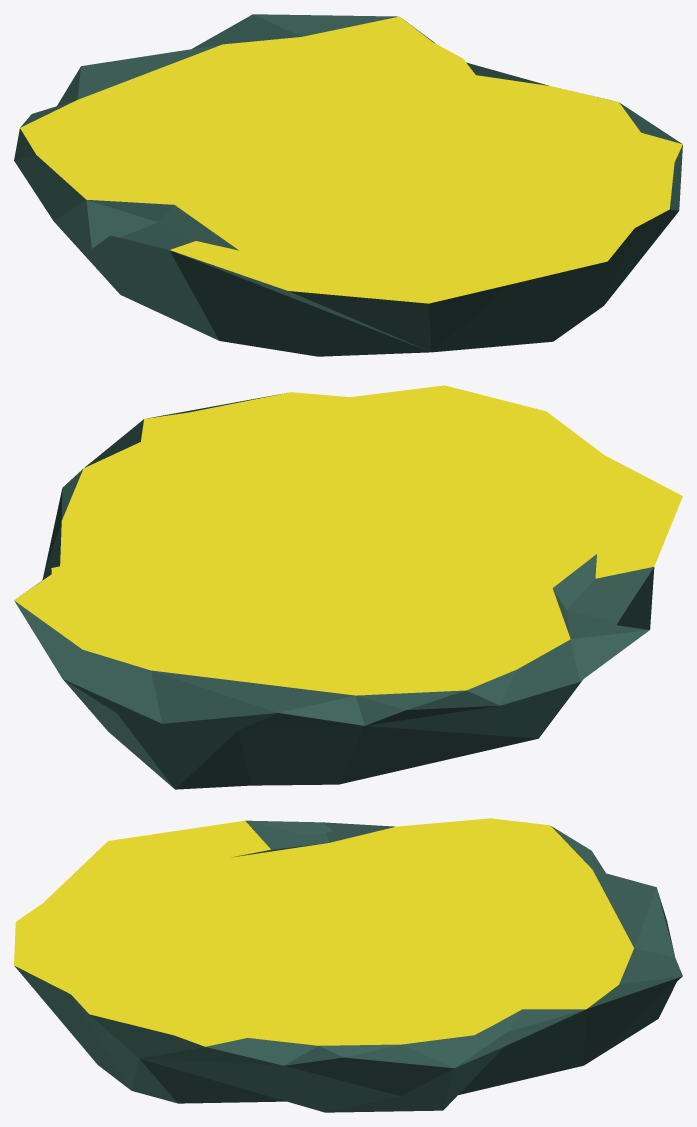
The model's file is Stone_10.fbx.
The picture shows the model from 3 angles, top to bottom: view 1: azimuth 30°, elevation 25°; view 2: azimuth 150°, elevation 25°; view 3: azimuth 270°, elevation 25°; orthographic projection. The views are drawn at different scales.
Parts seen in each view (by area): view 1: Stone 10; view 2: Stone 10; view 3: Stone 10.
Boxes of the visible parts, <box> form: Stone 10: <box>14,14,682,356</box>; Stone 10: <box>14,385,682,789</box>; Stone 10: <box>14,818,682,1112</box>.
Bounding box in the file's own units: 5429 × 1145 × 6266.
